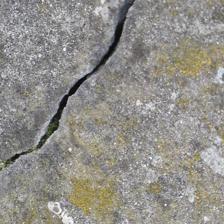Crack: (4, 2, 130, 166)
